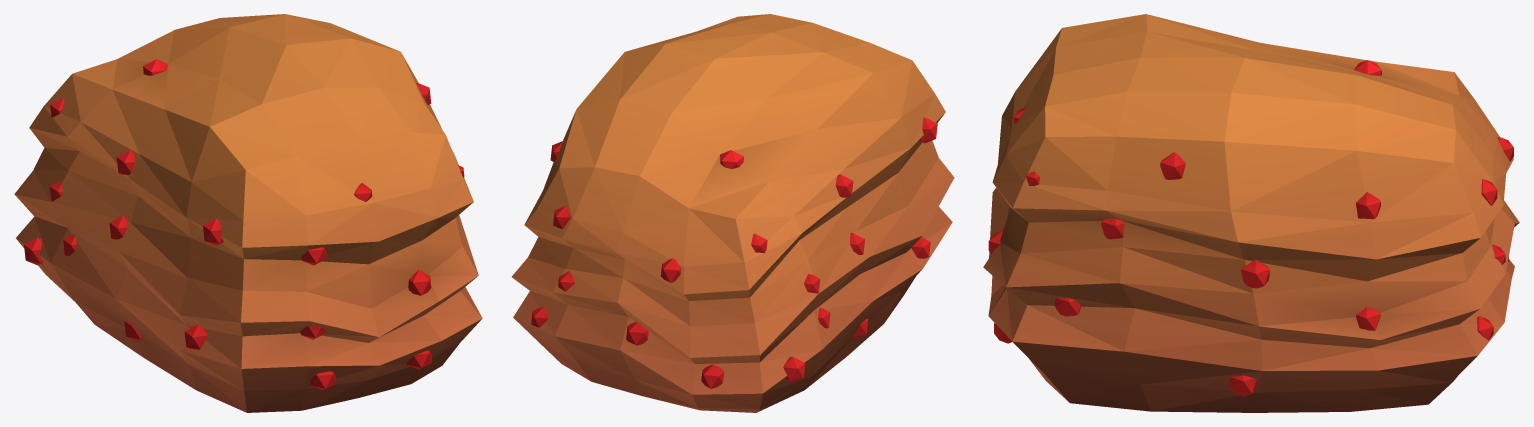
The model's file is bush_berry.glb.
3 views of the same model, side by side, from view 1: azimuth 30°, elevation 25°; view 2: azimuth 150°, elevation 25°; view 3: azimuth 270°, elevation 25° (orthographic). The views are drawn at different scales.
Parts seen in each view (by area): view 1: bush_berry; view 2: bush_berry; view 3: bush_berry.
Part boxes in pixels (<box>): bush_berry: <box>14,14,482,412</box>; bush_berry: <box>512,14,954,412</box>; bush_berry: <box>983,14,1519,412</box>.
Bounding box in the file's own units: 1.19 × 1 × 1.59.
1 material, 1 textured.
